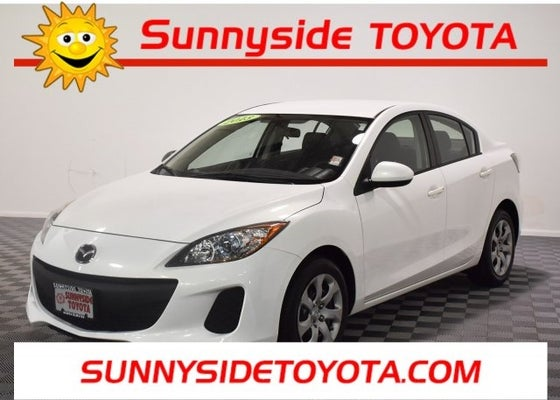Mazda3 Hatchback: (25, 100, 521, 341)
